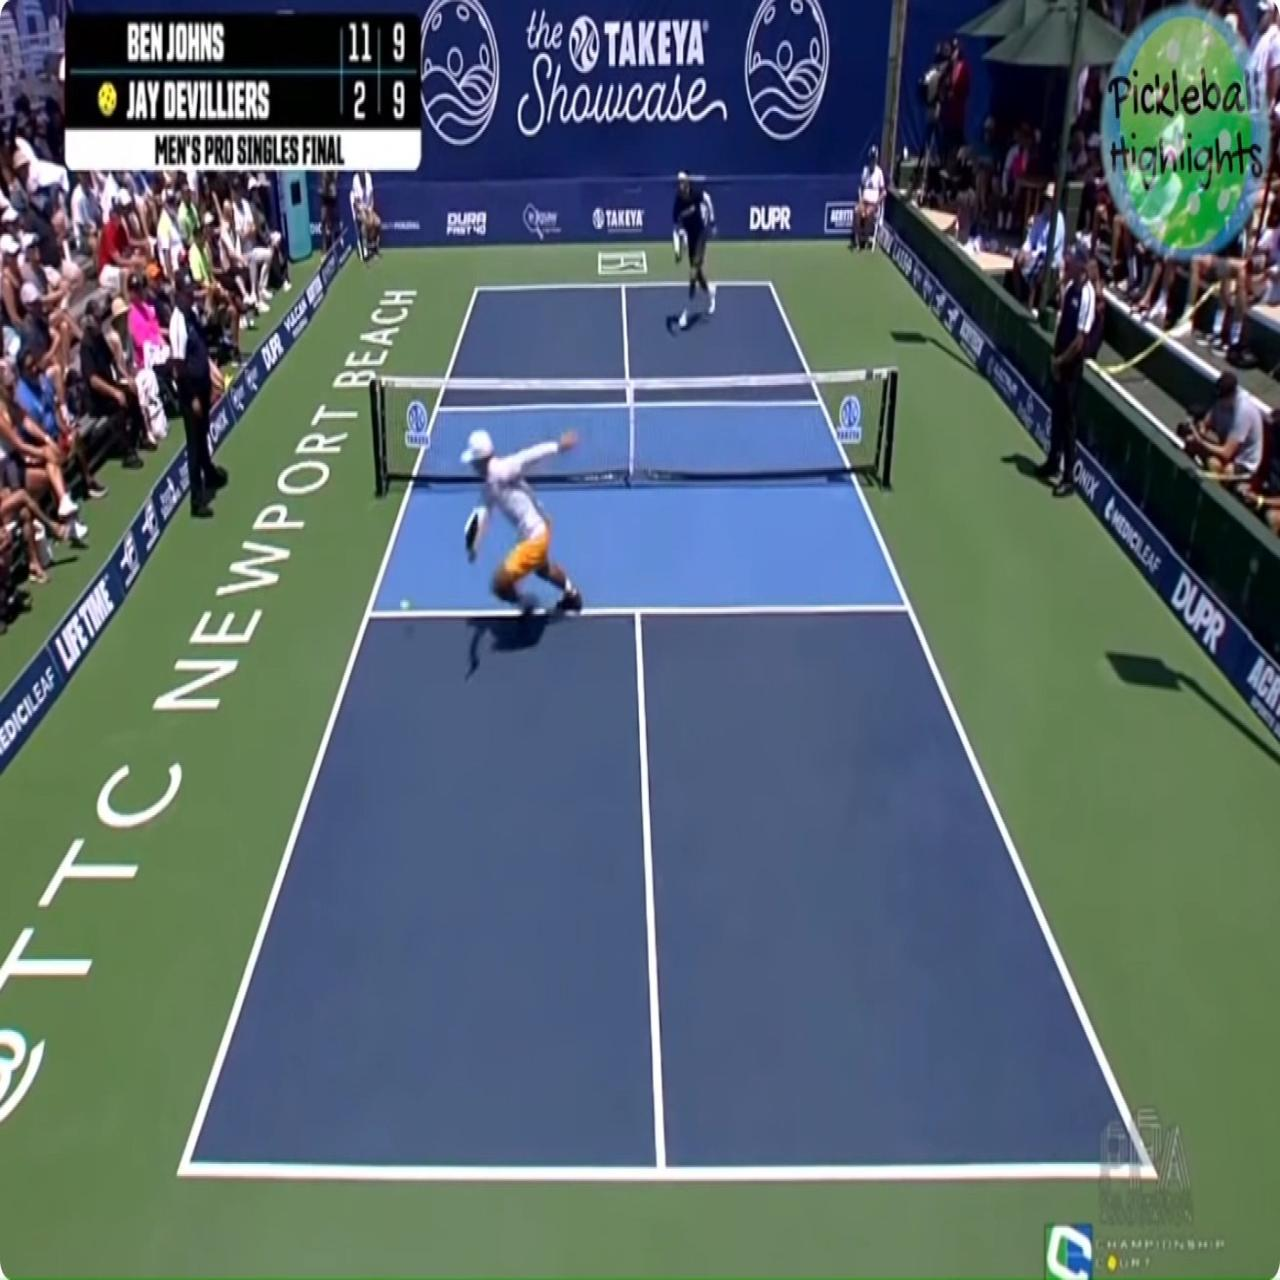pickleball: (399, 598, 411, 611)
